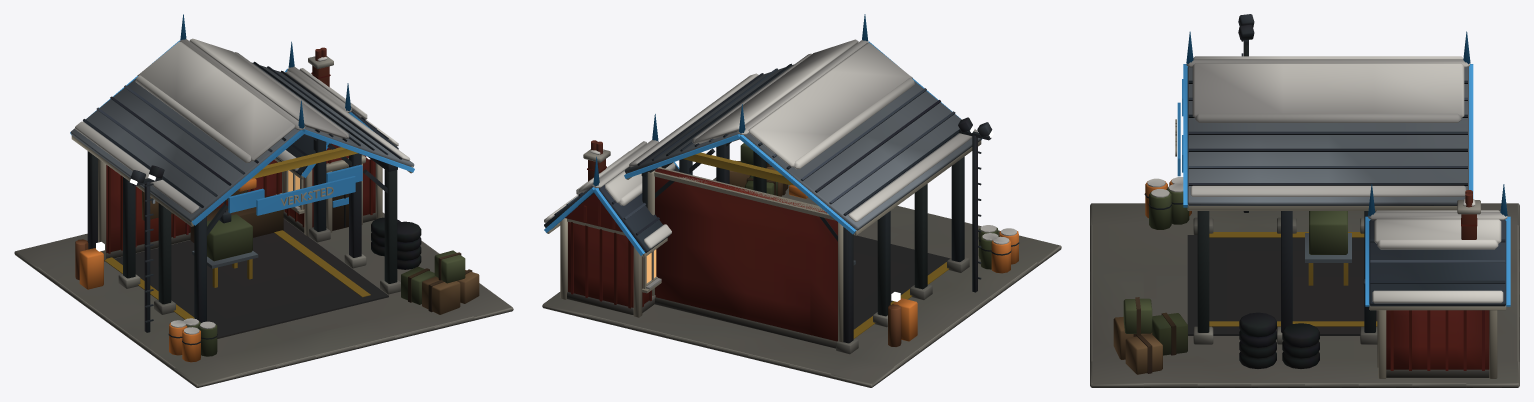
File: workshop.glb
3 views of the same model, side by side, from view 1: azimuth 30°, elevation 25°; view 2: azimuth 150°, elevation 25°; view 3: azimuth 270°, elevation 25° (orthographic). The views are drawn at different scales.
Visible parts, largest first — view 1: workshop_root_matte, workshop_root_metal, workshop_root_trim; view 2: workshop_root_matte, workshop_root_metal, workshop_root_trim; view 3: workshop_root_matte, workshop_root_metal, workshop_root_trim.
Boxes of the visible parts, x1=… form: workshop_root_matte: x1=14, y1=38, x2=513, y2=387; workshop_root_metal: x1=75, y1=137, x2=397, y2=332; workshop_root_trim: x1=70, y1=14, x2=414, y2=225; workshop_root_matte: x1=542, y1=39, x2=1061, y2=387; workshop_root_metal: x1=641, y1=117, x2=992, y2=346; workshop_root_trim: x1=544, y1=14, x2=981, y2=255; workshop_root_matte: x1=1090, y1=56, x2=1519, y2=387; workshop_root_metal: x1=1197, y1=14, x2=1375, y2=332; workshop_root_trim: x1=1177, y1=31, x2=1510, y2=306.
Bounding box in the file's own units: 11.19 × 7.34 × 11.
